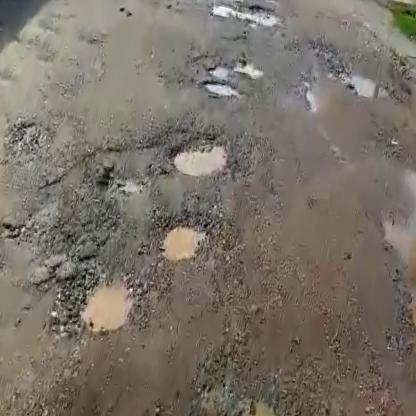pothole: (153, 377, 333, 416), (62, 262, 140, 341), (166, 126, 234, 187), (155, 213, 210, 270), (342, 62, 397, 104), (231, 0, 284, 28), (199, 77, 243, 104)
